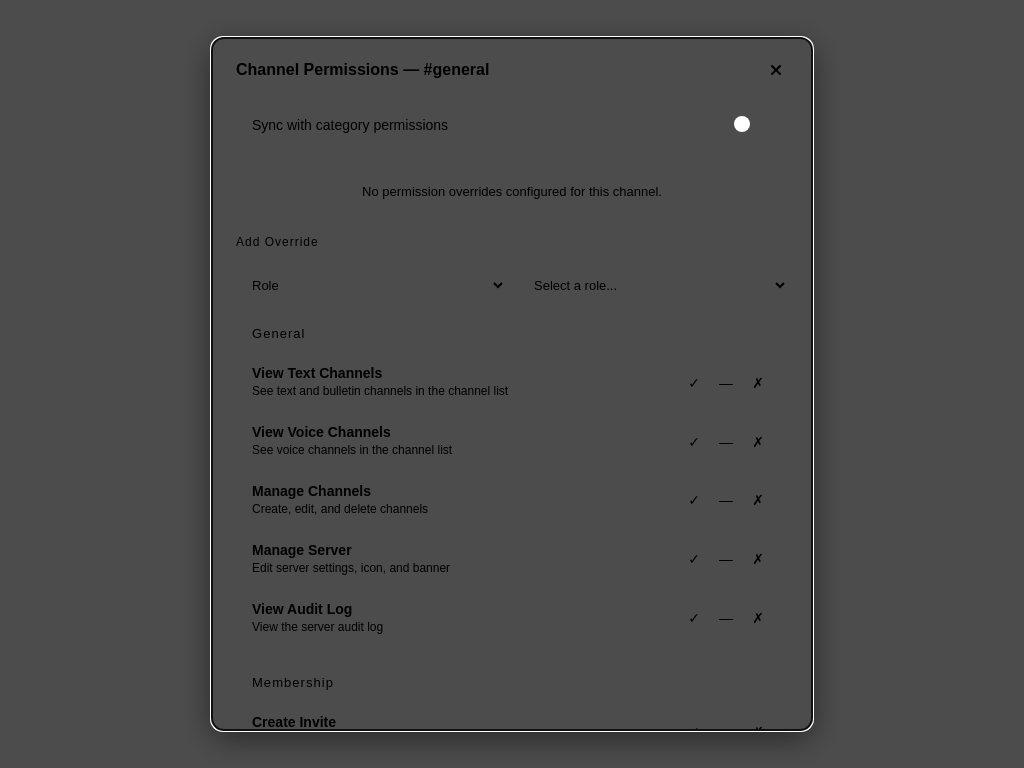
it: ChannelSettingsModal › shows synced notice and hides add section when synced
Click the switch: coordinates (752, 125) [732,114,772,136]
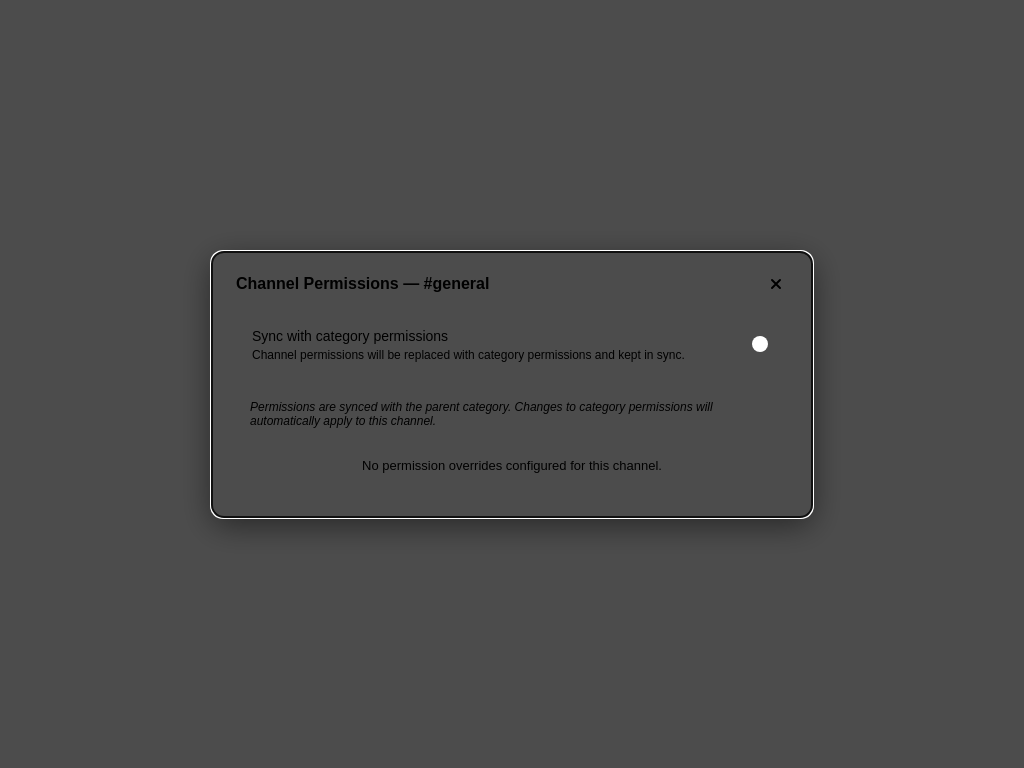
Result: the text "Permissions are synced with the parent category" is shown at [250,400,713,428]
